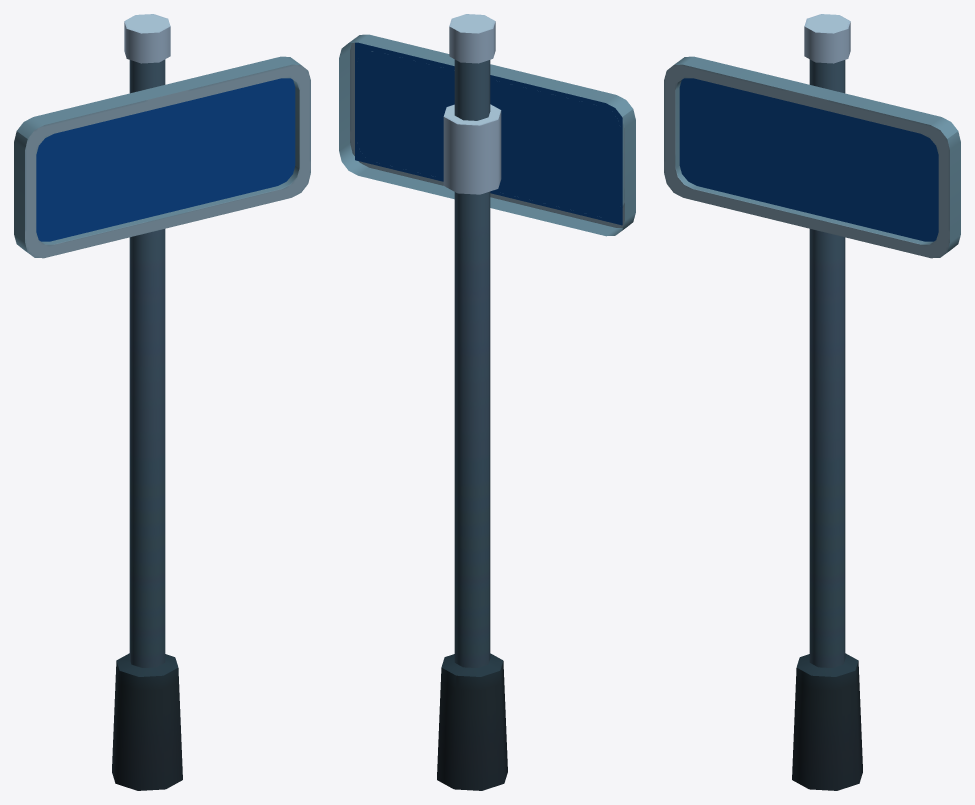
File: MESH_Panneau_04.fbx
The picture shows the model from 3 angles, left to right: view 1: azimuth 30°, elevation 25°; view 2: azimuth 150°, elevation 25°; view 3: azimuth 330°, elevation 25°; orthographic projection.
Parts seen in each view (by area): view 1: MESH_Panneau_04; view 2: MESH_Panneau_04; view 3: MESH_Panneau_04.
Boxes of the visible parts, bbox=[...] form: MESH_Panneau_04: bbox=[14, 14, 310, 790]; MESH_Panneau_04: bbox=[339, 14, 635, 790]; MESH_Panneau_04: bbox=[664, 14, 960, 790].
Size of the model in its own units: 0.9 by 2.26 by 0.2128.
